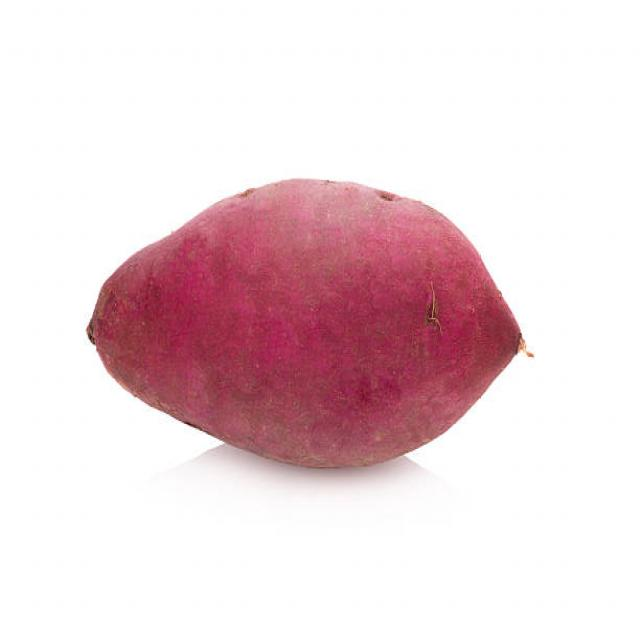Sweet Potato: (82, 174, 530, 471)
